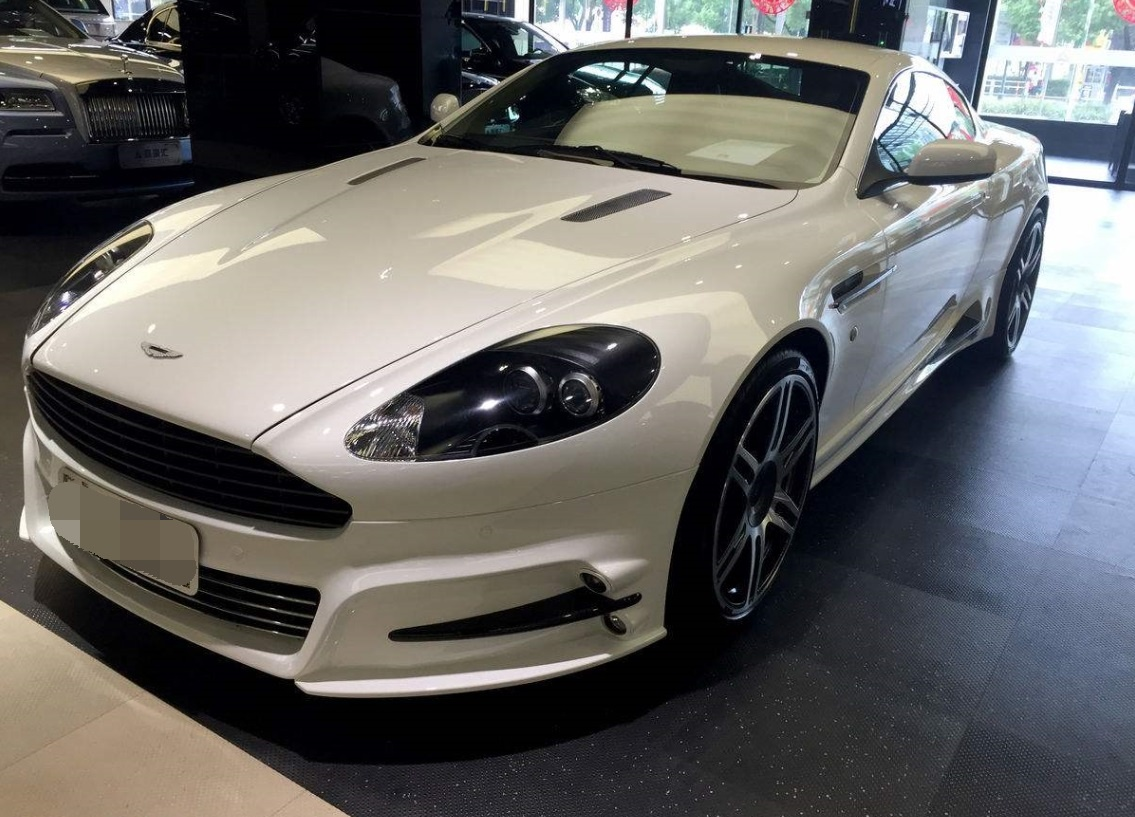family sedan: (39, 61, 998, 672)
